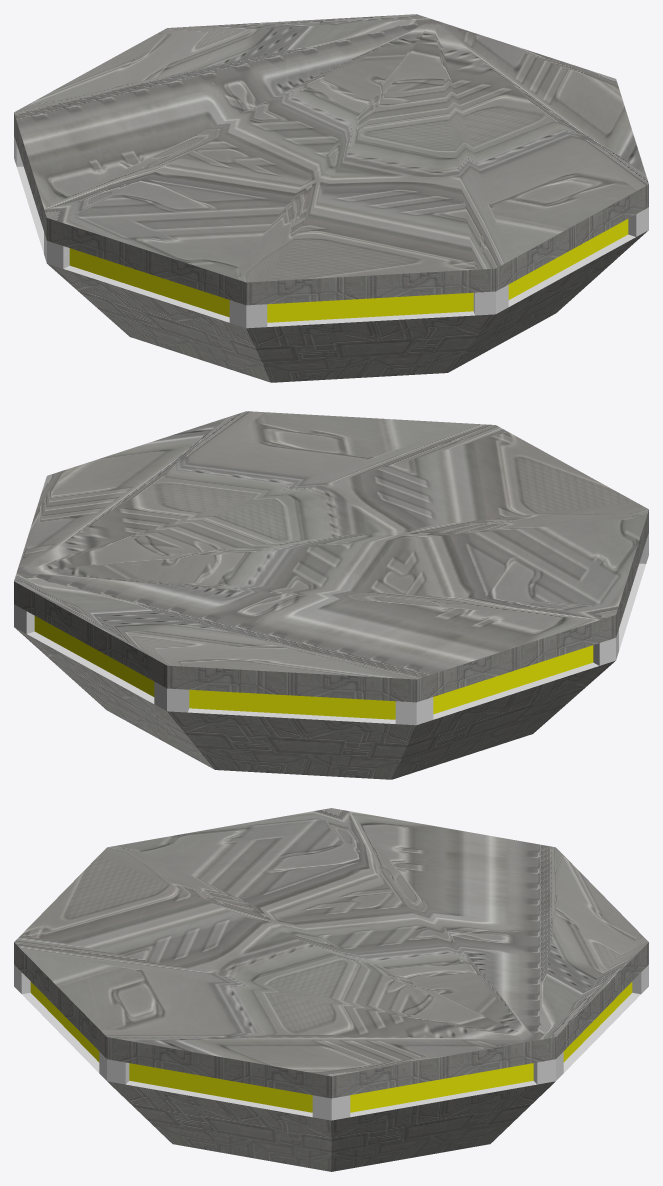
File: SpaceBaseRoof.fbx
3 views of the same model, one above another, from view 1: azimuth 30°, elevation 25°; view 2: azimuth 150°, elevation 25°; view 3: azimuth 270°, elevation 25° (orthographic). The views are drawn at different scales.
Parts seen in each view (by area): view 1: SpaceBaseRoof; view 2: SpaceBaseRoof; view 3: SpaceBaseRoof.
Part boxes in pixels (x1,y1,x2,y2): SpaceBaseRoof: (14, 14, 648, 382); SpaceBaseRoof: (14, 411, 648, 779); SpaceBaseRoof: (14, 808, 648, 1171).
Size of the model in its own units: 651 by 651 by 152.
